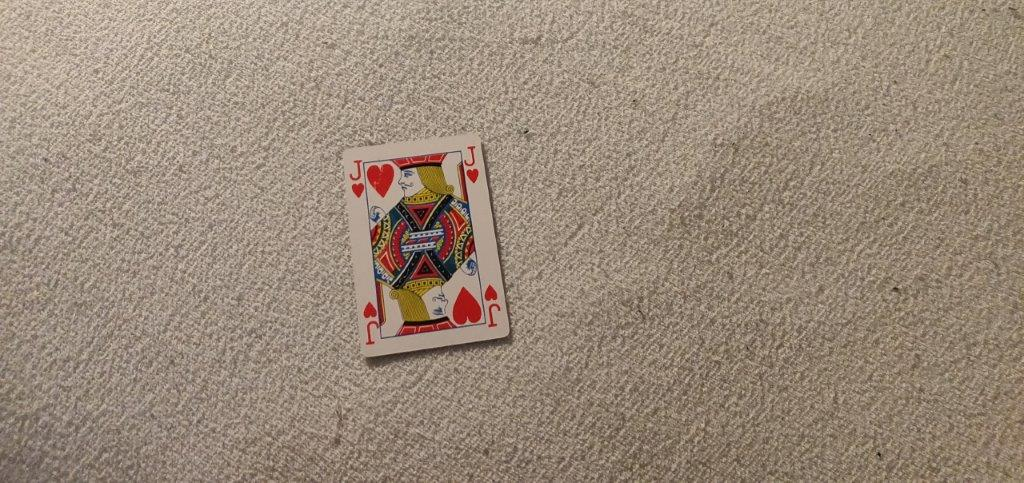JH: (345, 158, 369, 200), (459, 144, 484, 184)
